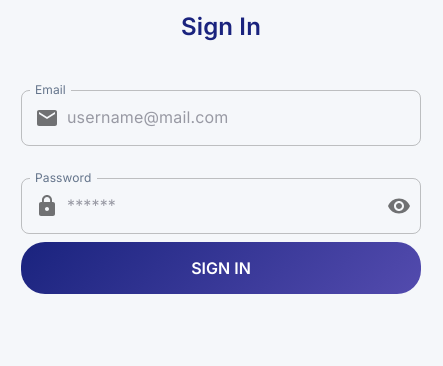
Test: LoginForm Component › Form Validation › should show errors for both empty fields
This screenshot has width=443, height=366.
Click the button "Sign In" at (221, 268), box [21,242,421,294]
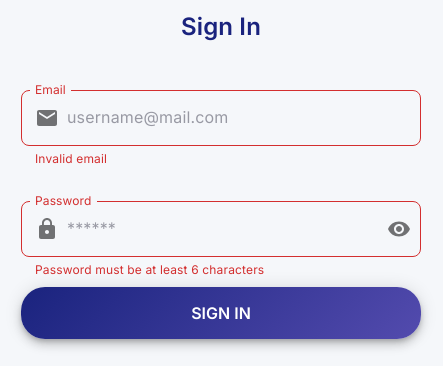
Check: the text "Invalid email" is shown, box [35,151,107,166]
